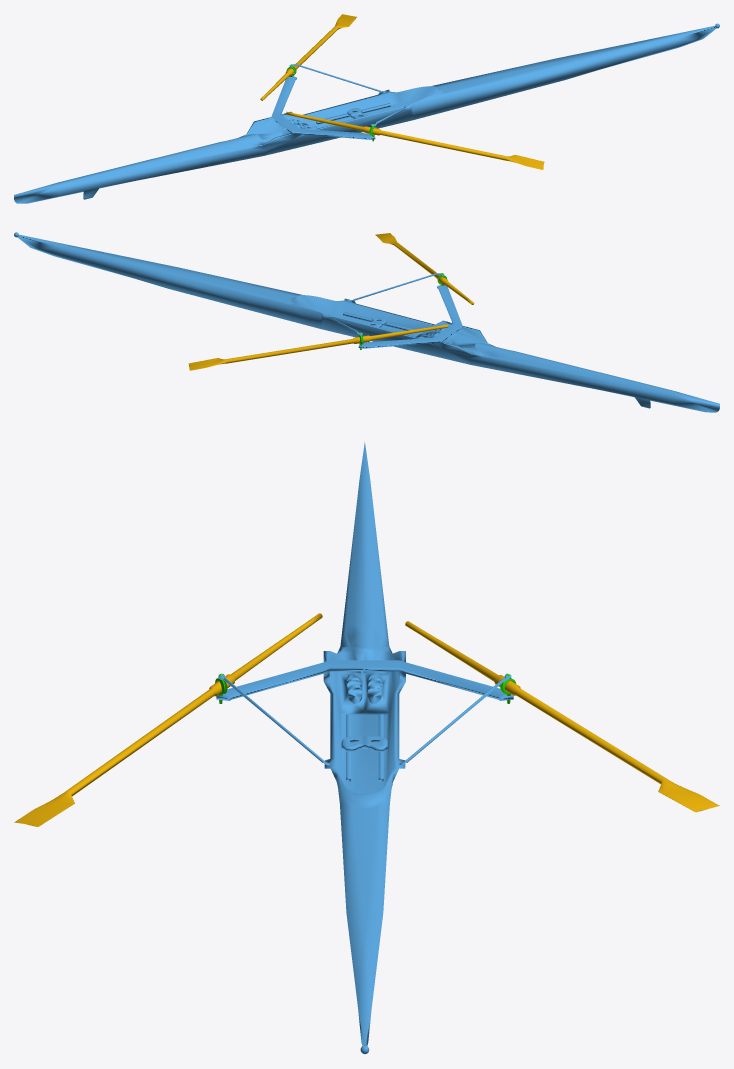
Rendered from aviron_animation.glb.
3 views of the same model, one above another, from view 1: azimuth 30°, elevation 25°; view 2: azimuth 150°, elevation 25°; view 3: azimuth 270°, elevation 25° (orthographic). The views are drawn at different scales.
Visible parts, largest first — view 1: bateau, aviron_Gauche, aviron_Droit; view 2: bateau, aviron_Droit, aviron_Gauche; view 3: bateau, aviron_Gauche, aviron_Droit.
Part boxes in pixels (bbox=[...]): bateau: bbox=[14, 23, 719, 203]; aviron_Gauche: bbox=[286, 112, 544, 169]; aviron_Droit: bbox=[260, 14, 356, 100]; bateau: bbox=[14, 232, 719, 412]; aviron_Droit: bbox=[188, 324, 448, 370]; aviron_Gauche: bbox=[375, 233, 474, 304]; bateau: bbox=[216, 442, 513, 1054]; aviron_Gauche: bbox=[14, 613, 322, 826]; aviron_Droit: bbox=[405, 621, 719, 812].
Bounding box in the file's own units: 4.91 × 0.3388 × 2.42.
